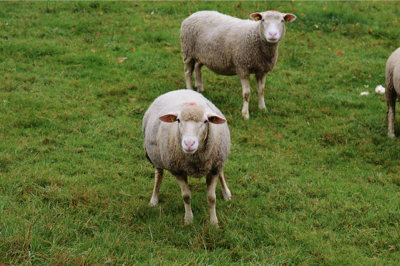koyun: (139, 89, 234, 228), (180, 6, 297, 86)
